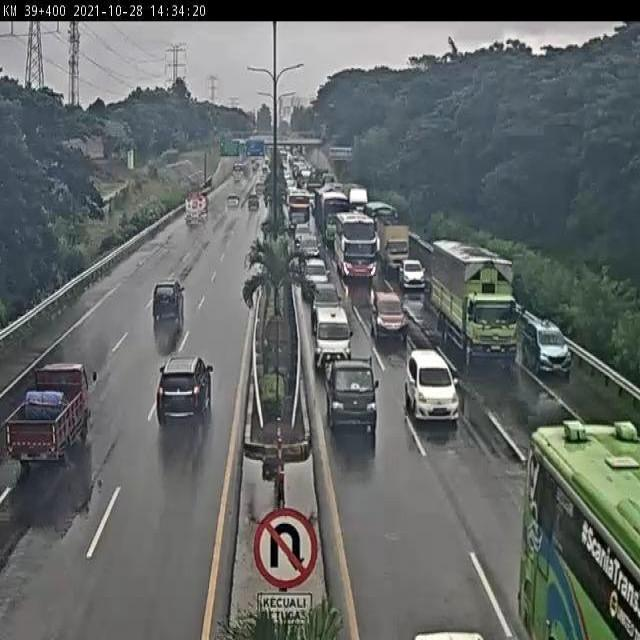big bus: (521, 429, 640, 640), (340, 215, 383, 284), (320, 190, 353, 242), (285, 191, 313, 232)
car: (403, 344, 460, 421), (155, 355, 217, 424), (323, 352, 376, 431), (525, 320, 575, 380), (367, 289, 411, 343), (313, 304, 350, 357), (152, 282, 187, 322), (303, 251, 330, 300), (399, 252, 428, 291), (341, 250, 367, 278), (311, 282, 341, 306), (297, 238, 318, 266), (292, 220, 309, 240)
small truck: (8, 363, 101, 468), (377, 214, 417, 278)
truck-l-: (431, 239, 520, 365)
